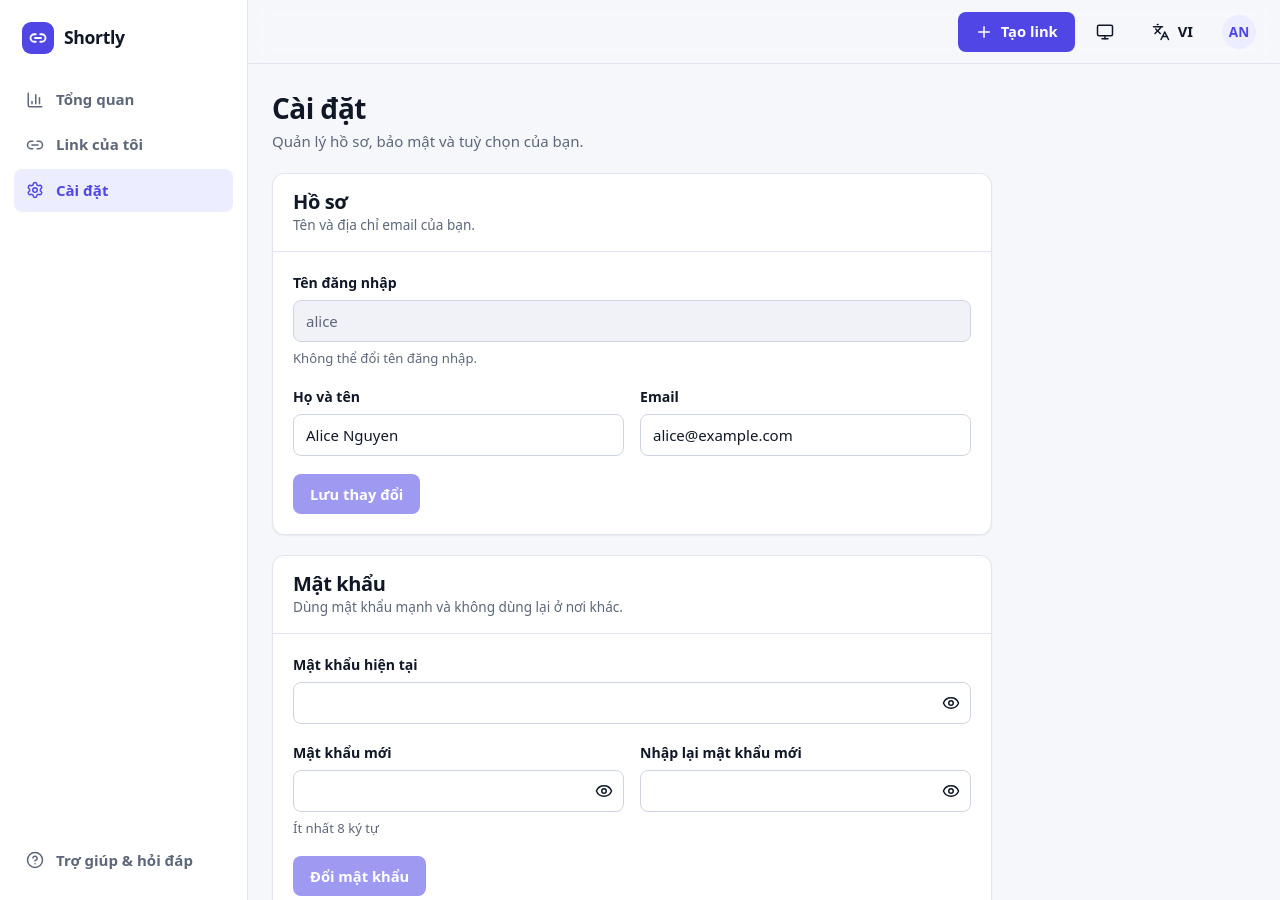
cài đặt: đổi mật khẩu › đổi thành công gửi đủ ba trường, báo thành công và xoá sạch các ô
The width and height of the screenshot is (1280, 900).
In the password field labelled "Mật khẩu hiện tại": x=632, y=703 [293, 682, 971, 724], type "OldPass1"
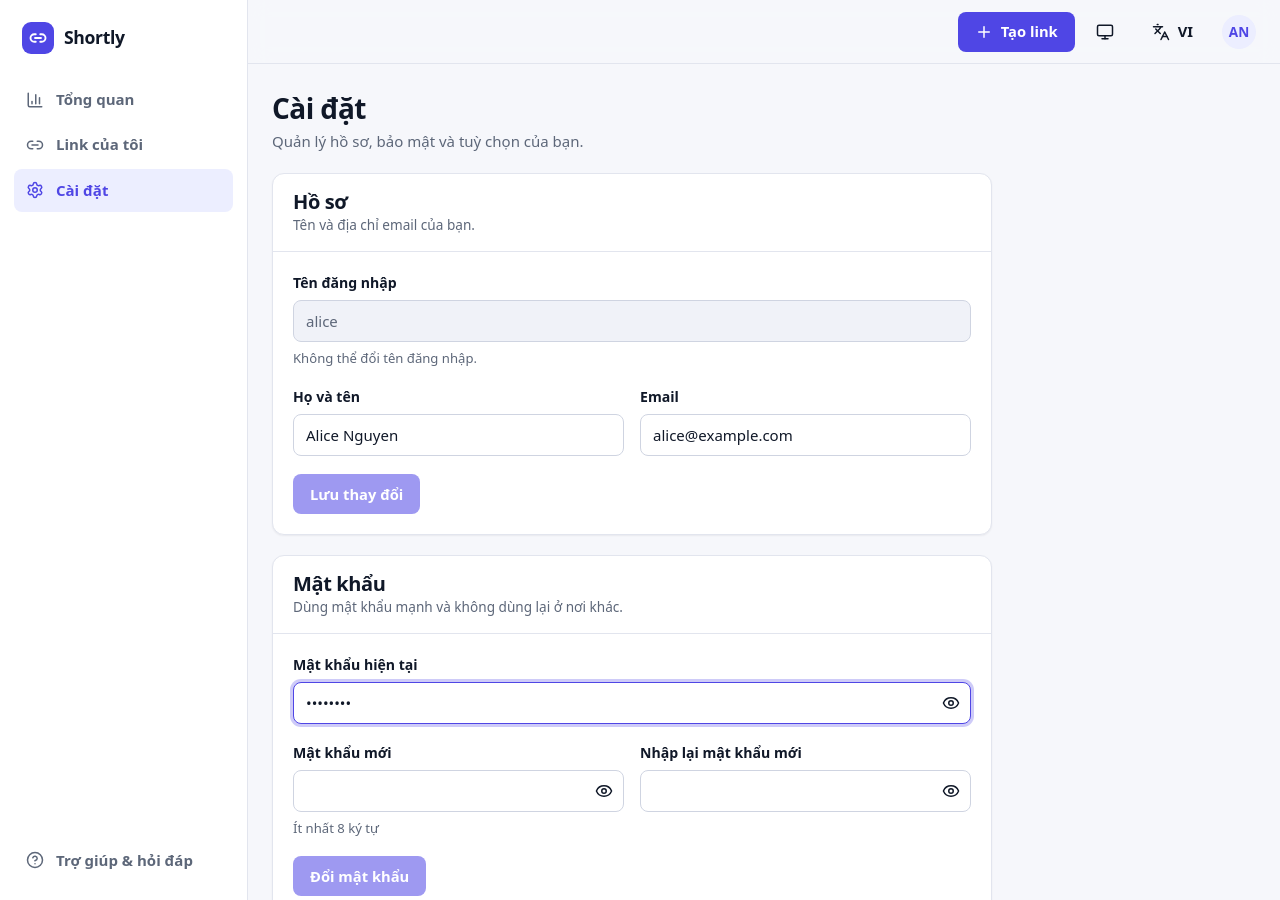
In the password field labelled "Mật khẩu mới": x=458, y=791 [293, 770, 624, 812], type "NewPass12"
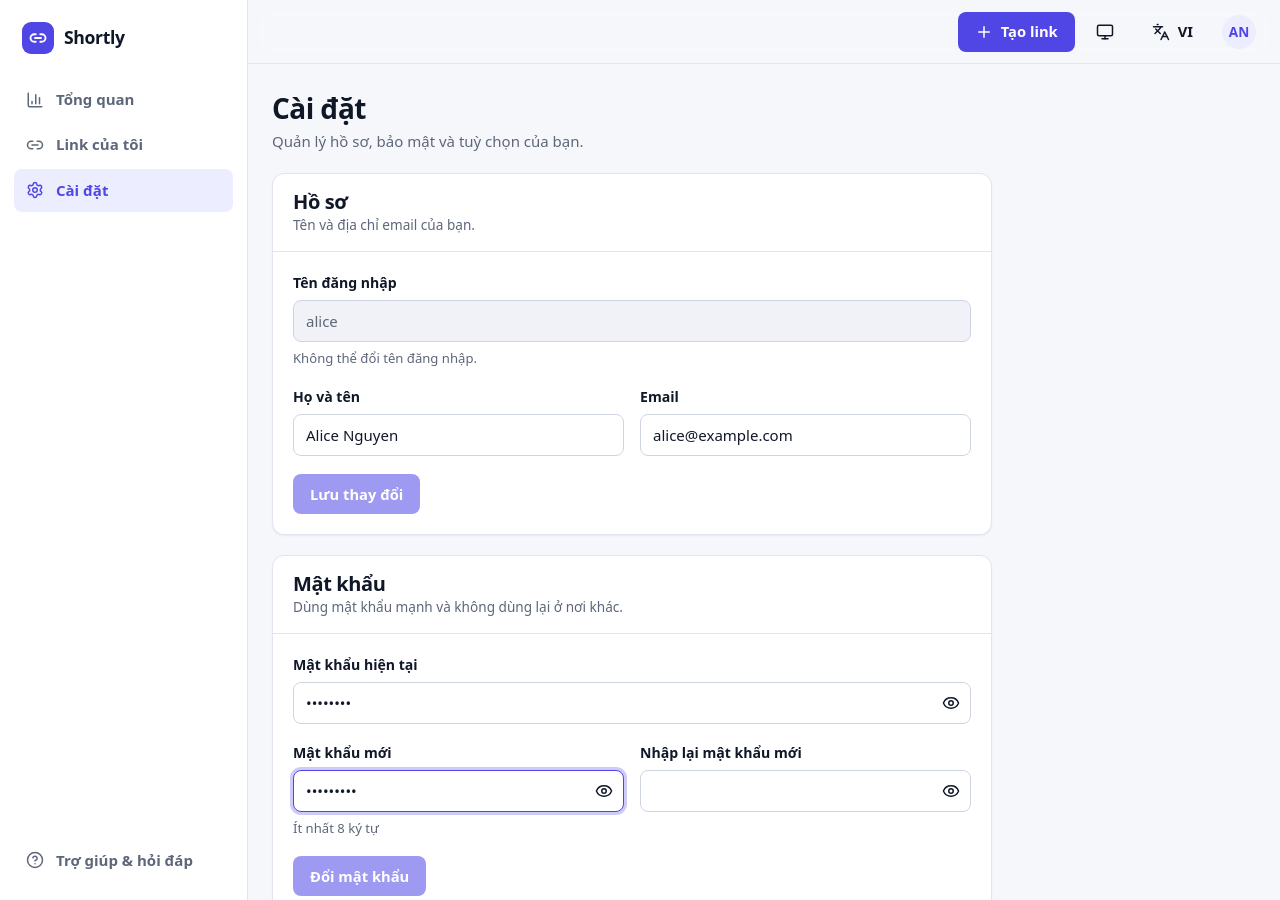
In the password field labelled "Nhập lại mật khẩu mới": x=806, y=791 [640, 770, 971, 812], type "NewPass12"
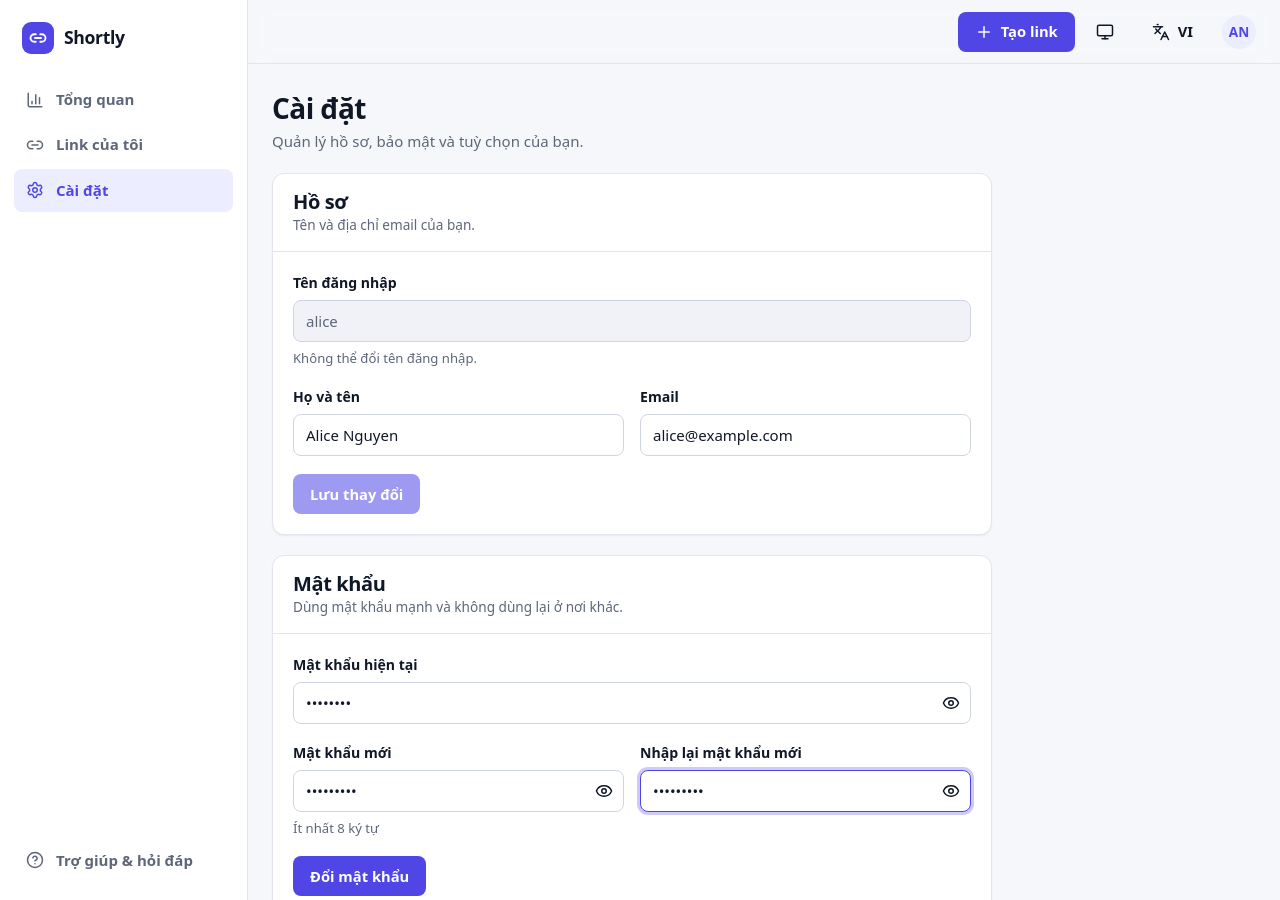
Click the button "Đổi mật khẩu": x=360, y=876 [293, 856, 426, 896]
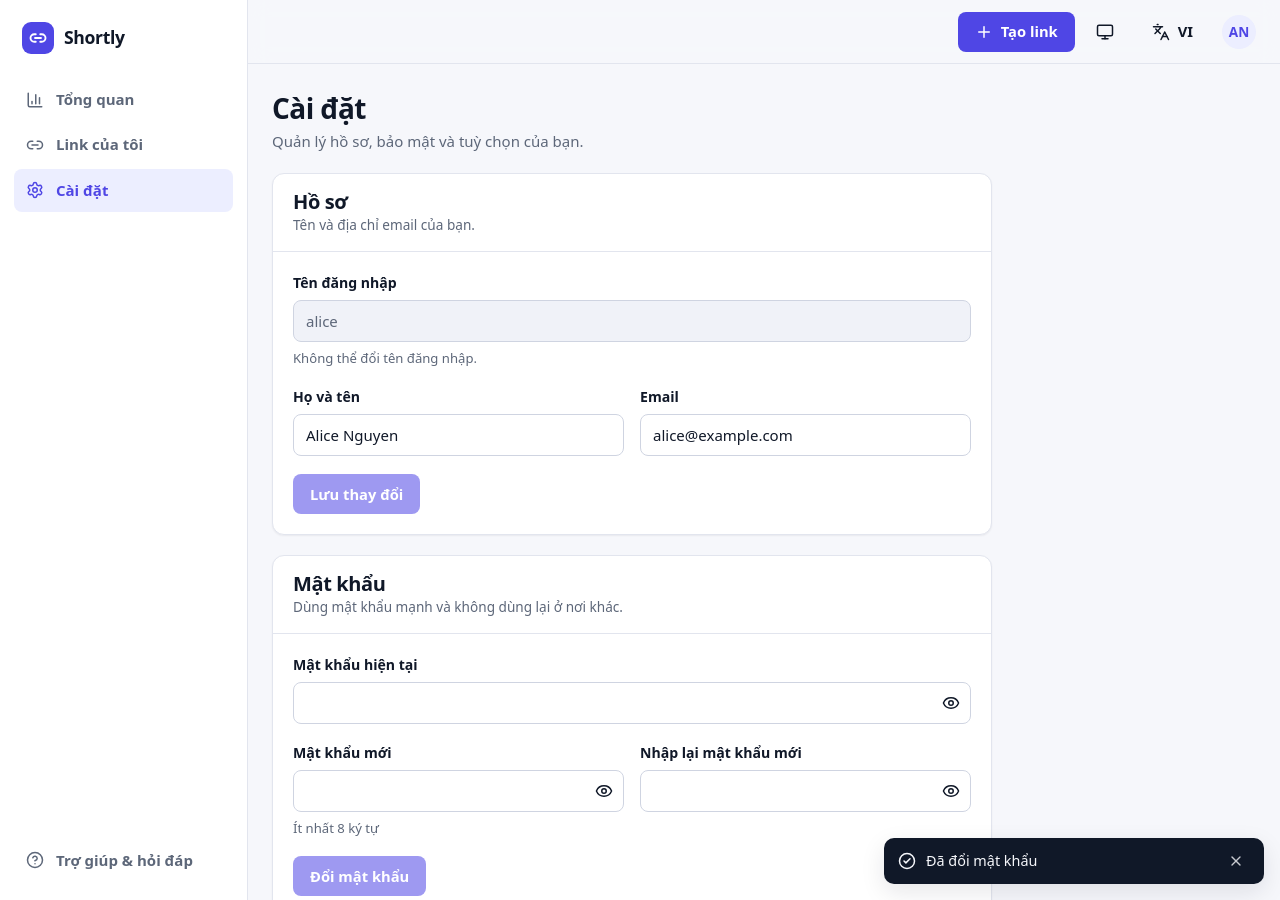
Now the text "Đã đổi mật khẩu" is shown, box [926, 850, 1037, 872]
Now the password field labelled "Mật khẩu hiện tại" is empty, box [293, 682, 971, 724]
Now the password field labelled "Mật khẩu mới" is empty, box [293, 770, 624, 812]
